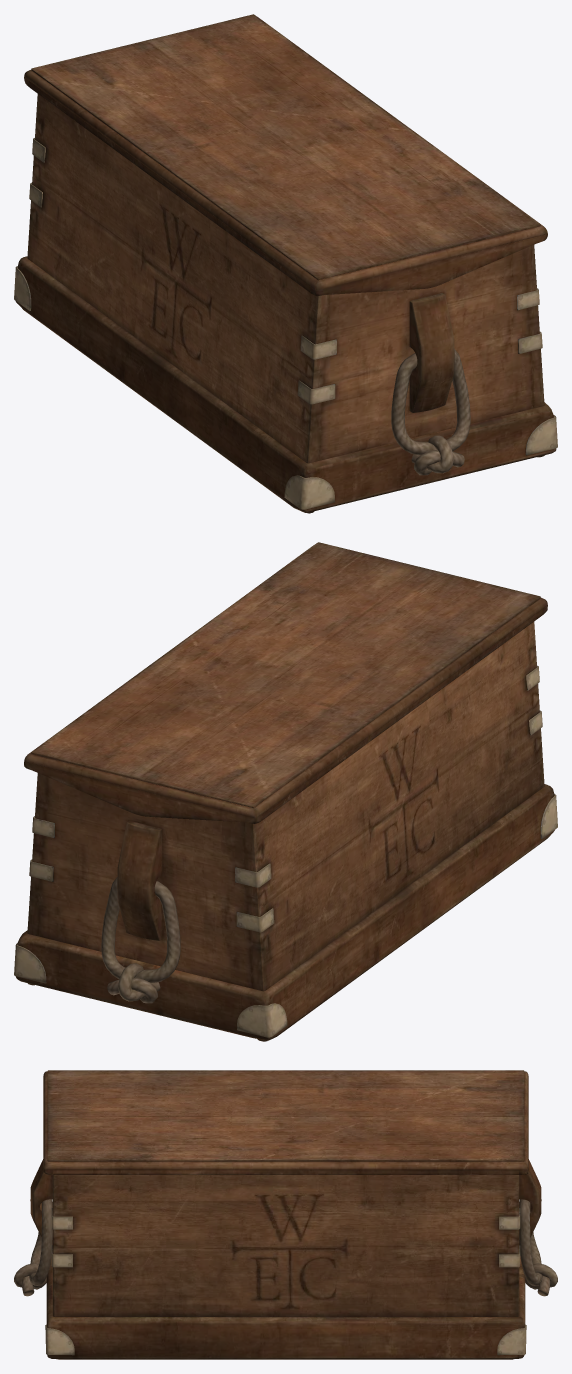
Rendered from wooden_crate_02.glb.
The picture shows the model from 3 angles, top to bottom: view 1: azimuth 30°, elevation 25°; view 2: azimuth 150°, elevation 25°; view 3: azimuth 270°, elevation 25°; orthographic projection. The views are drawn at different scales.
Visible parts, largest first — view 1: wooden_crate_02; view 2: wooden_crate_02; view 3: wooden_crate_02.
Part boxes in pixels (left/top/right/bottom): wooden_crate_02: left=14, top=14, right=557, bottom=513; wooden_crate_02: left=14, top=542, right=557, bottom=1041; wooden_crate_02: left=14, top=1070, right=557, bottom=1359.
Bounding box in the file's own units: 0.5291 × 0.464 × 1.17.
1 material, 1 textured.
